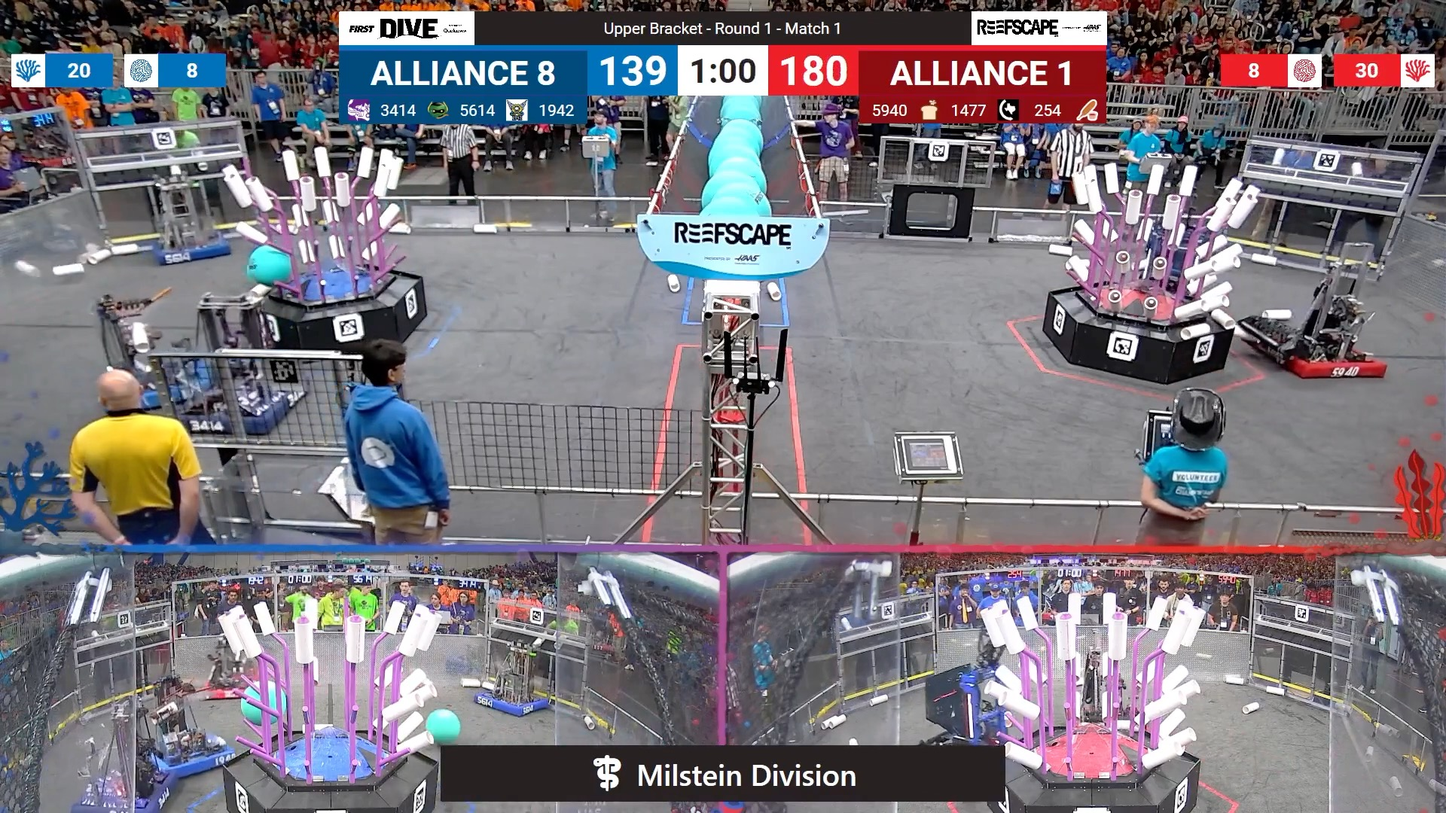bumpers: (1236, 321, 1396, 389), (184, 377, 315, 438), (112, 347, 220, 413), (137, 725, 248, 786), (74, 765, 176, 813), (142, 235, 236, 271), (466, 687, 553, 721)
